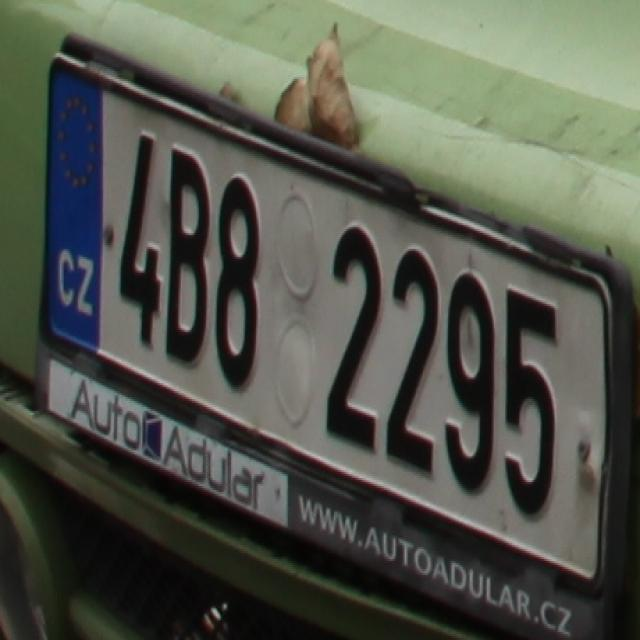2: (381, 241, 438, 472), (321, 220, 377, 454)
4: (116, 120, 158, 348)
5: (501, 284, 558, 516)
8: (214, 170, 262, 386)
9: (444, 264, 496, 496)
B: (160, 136, 209, 368)
